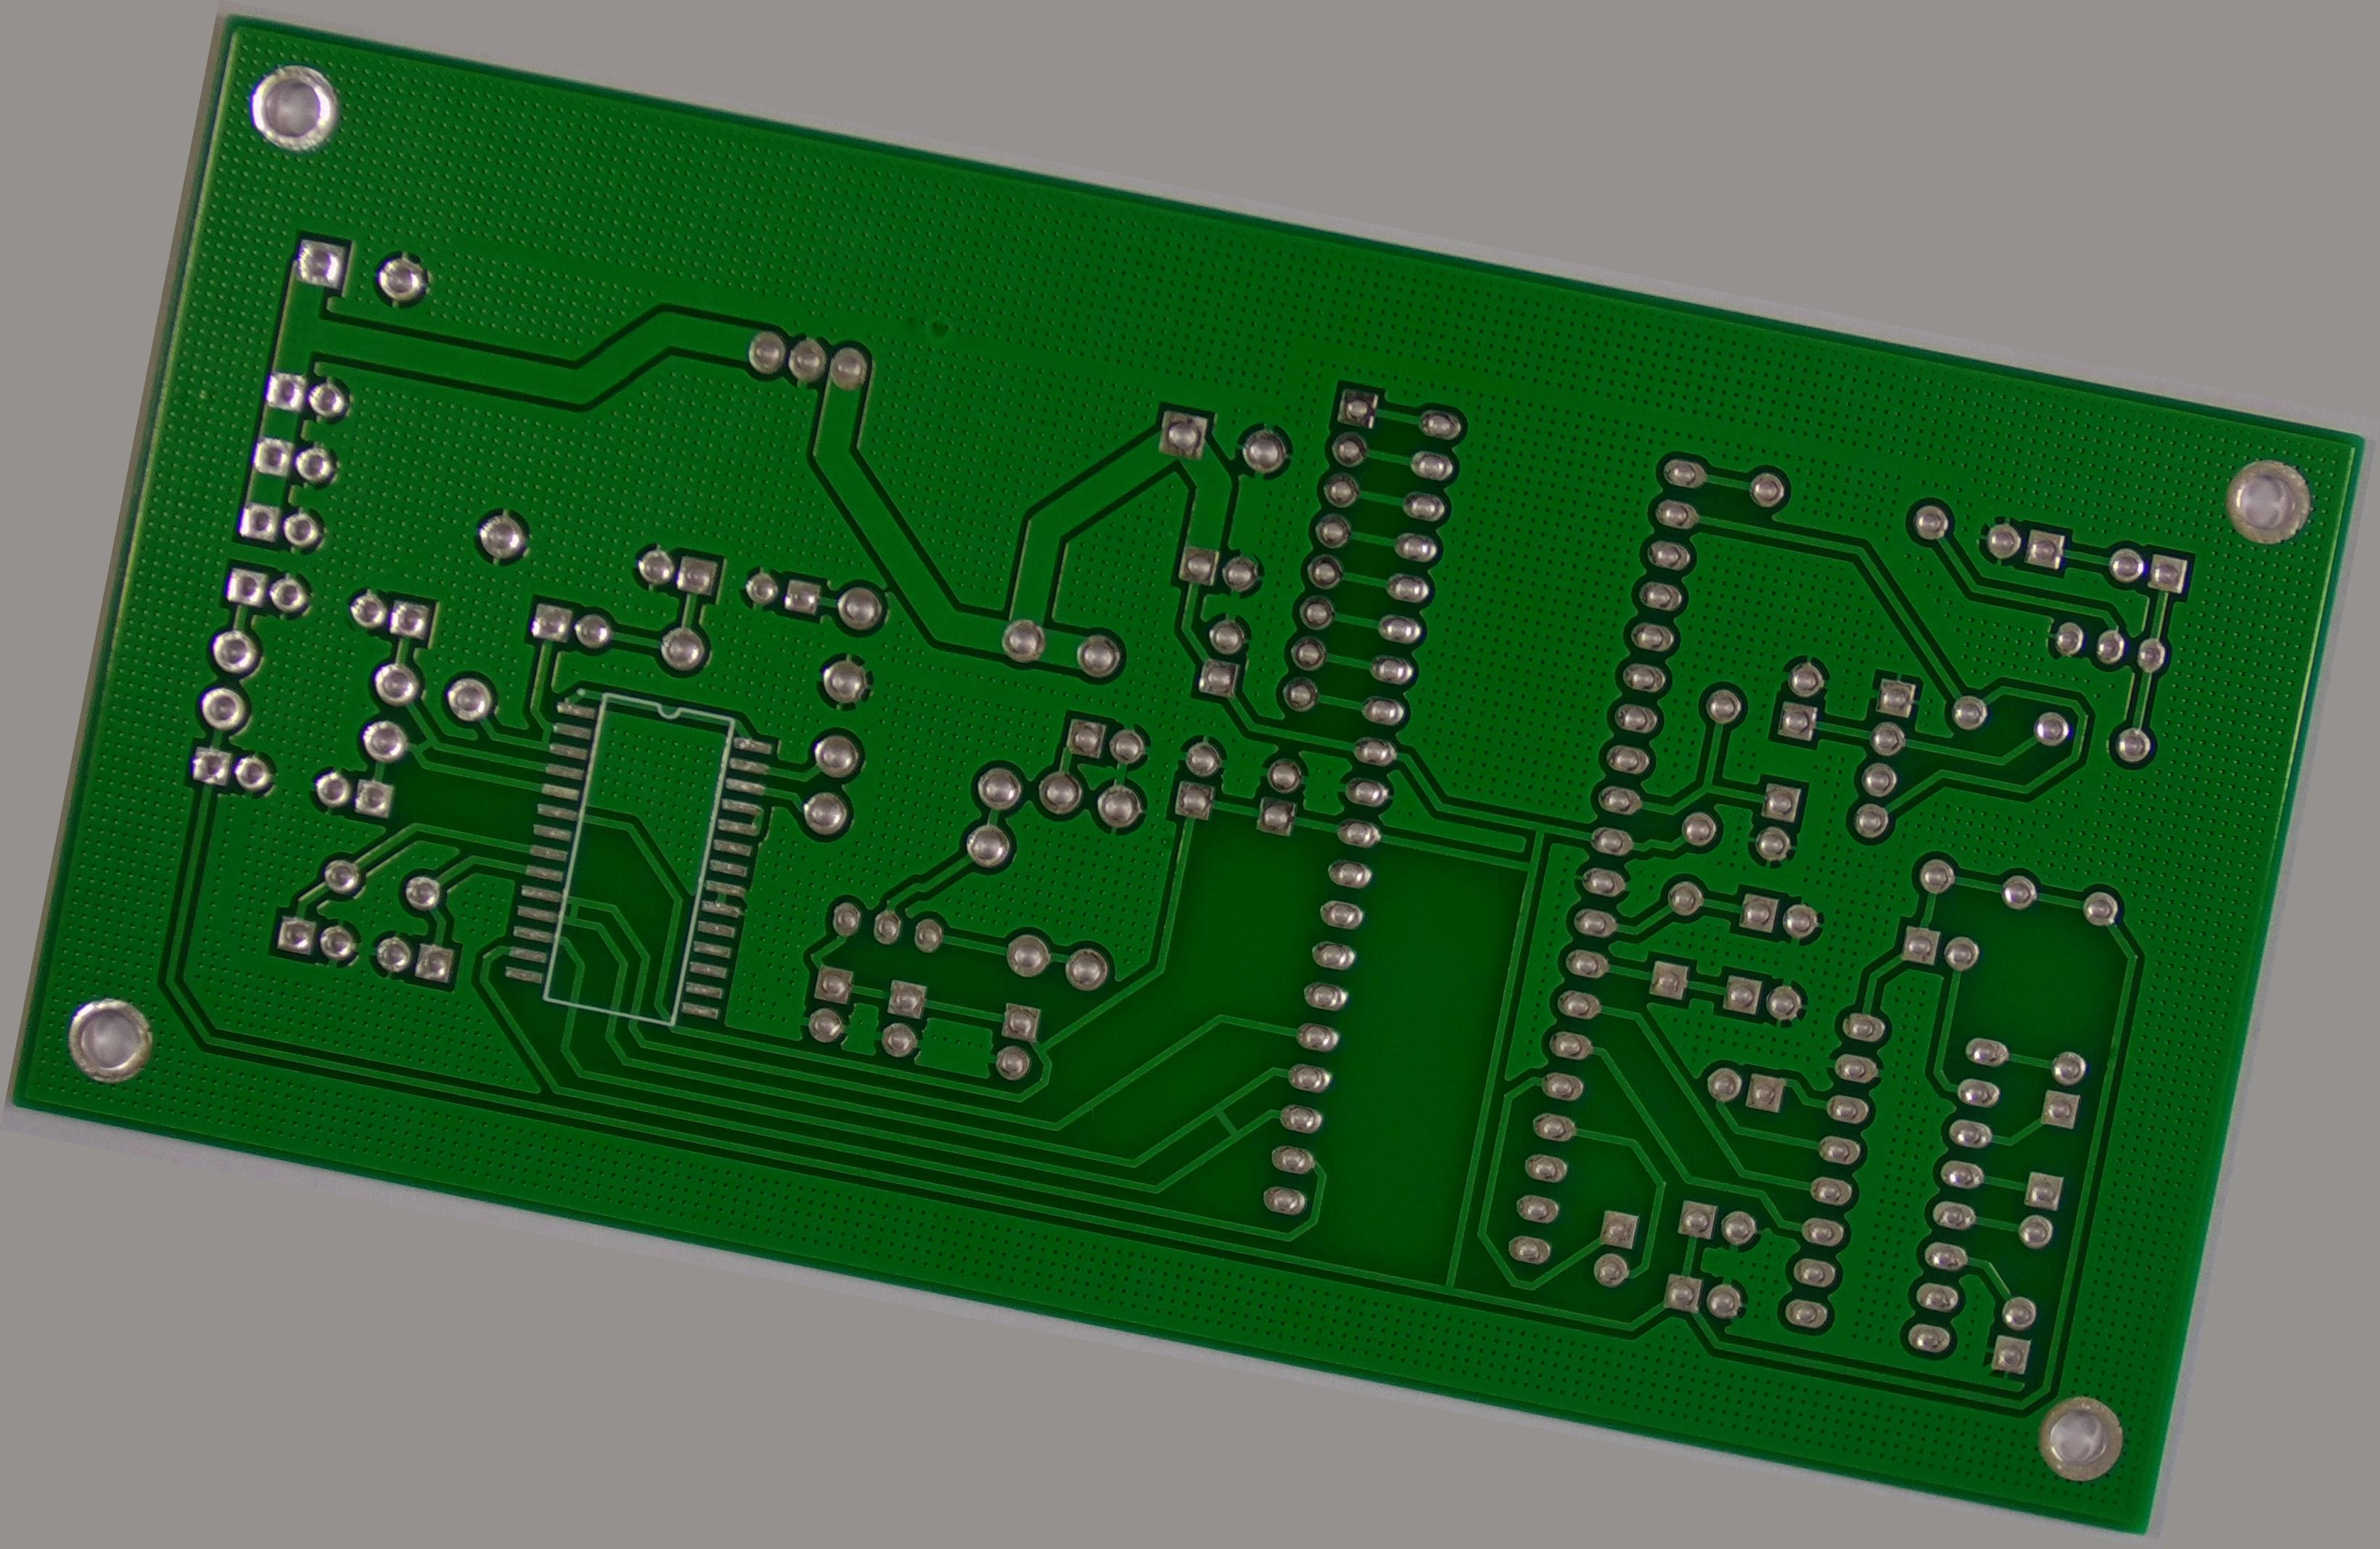short: (1199, 1098, 1256, 1157), (522, 709, 566, 755), (399, 729, 444, 770), (553, 888, 590, 931)
